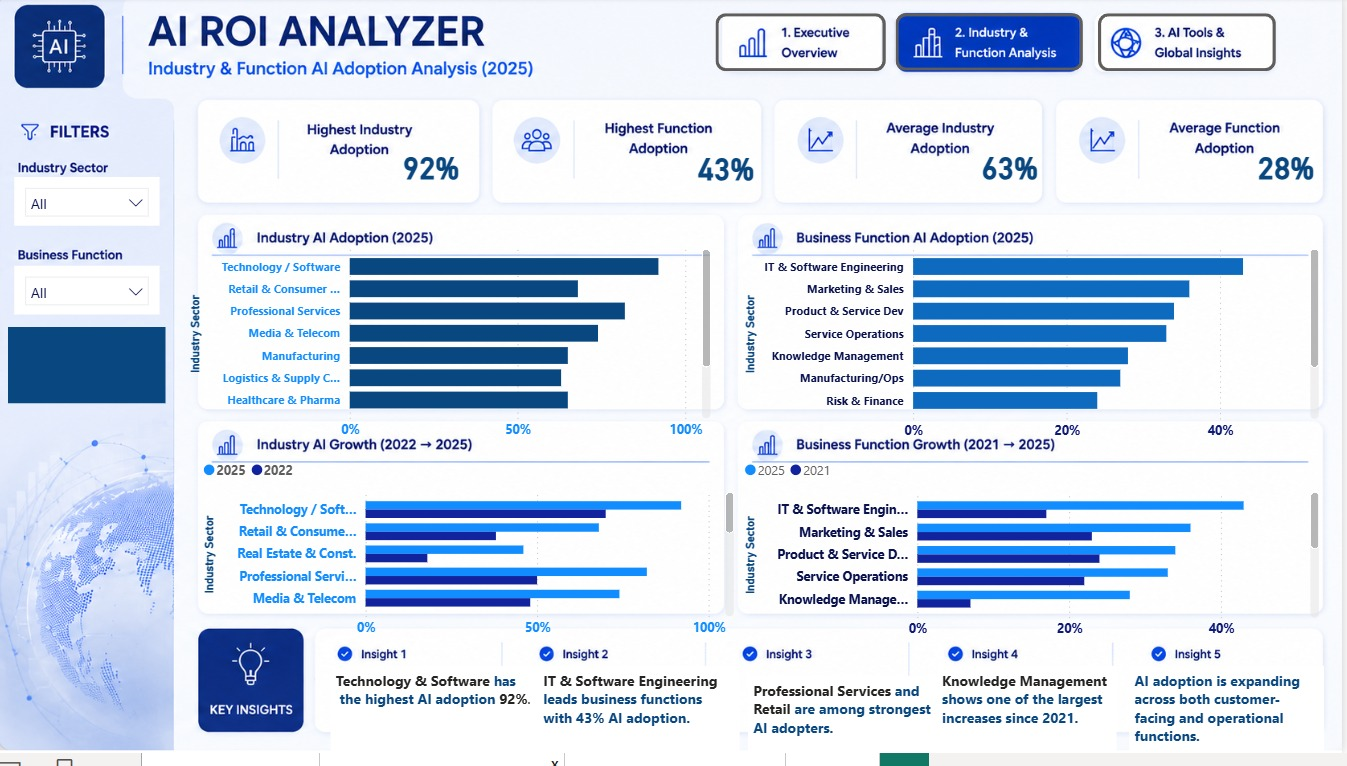

This screenshot's page, from the dashboard's own definition file:
{"tool":"powerbi","page":{"name":"Industry & Function Analysis","canvas":[1280,720],"ordinal":1},"visuals":[{"type":"card","fields":{"Values":["Measures (2).Highest Industry Adoption"]},"box":[376.2,133.3,72.6,56],"z":0},{"type":"card","fields":{"Values":["Measures (2).Highest Function Adoption"]},"box":[657.1,134.5,72.6,56],"z":1000},{"type":"card","fields":{"Values":["Measures (2).Average Industry Adoption"]},"box":[927.4,133.3,72.6,56],"z":2000},{"type":"card","fields":{"Values":["Measures (2).Average Function Adoption"]},"box":[1190.5,133.3,72.6,56],"z":3000},{"type":"clusteredBarChart","fields":{"Y":["Sum(industry_adoption.y2025)"],"Category":["industry_adoption.industry_sector"]},"box":[177,227.8,506.3,203.1],"z":4000},{"type":"clusteredBarChart","fields":{"Y":["Sum(business_function.y2025)"],"Category":["business_function.business_function"]},"box":[706,227.4,557.1,203.6],"z":5000},{"type":"clusteredBarChart","fields":{"Y":["Sum(business_function.y2025)","Sum(business_function.y2021)"],"Category":["business_function.business_function"]},"box":[706,431,557.1,189.3],"z":6000},{"type":"clusteredBarChart","fields":{"Y":["Sum(industry_adoption.y2025)","Sum(industry_adoption.y2022)"],"Category":["industry_adoption.industry_sector"]},"box":[190.5,431,515.5,188.1],"z":7000},{"type":"actionButton","box":[854.8,15.5,178.6,54.8],"z":8000},{"type":"slicer","fields":{"Values":["industry_adoption.industry_sector"]},"box":[15.5,171.4,138.1,46.4],"z":9000},{"type":"slicer","fields":{"Values":["business_function.business_function"]},"box":[15.5,256,138.1,46.4],"z":10000},{"type":"shape","box":[9.5,314.3,150,72.6],"z":11000},{"type":"textbox","box":[316.7,636.9,197.6,83.3],"z":12000},{"type":"textbox","box":[514.3,636.9,191.7,83.3],"z":13000},{"type":"textbox","box":[714.3,646.4,179.8,73.8],"z":14000},{"type":"textbox","box":[894.1,636.9,171.4,83.3],"z":15000},{"type":"textbox","box":[1077.4,636.9,185.7,83.3],"z":16000},{"type":"actionButton","box":[683.2,15.6,162.1,55.2],"z":16001},{"type":"actionButton","box":[1047.1,15.6,169.3,55.2],"z":16002}]}

Visuals, with their boxes in screenshot pixels (x1, y1, x2, y2), scaled from the page's 1280x720 canvas onto the 1347x766 screenshot:
card - Measures (2).Highest Industry Adoption: [x1=396, y1=142, x2=472, y2=201]
card - Measures (2).Highest Function Adoption: [x1=691, y1=143, x2=768, y2=203]
card - Measures (2).Average Industry Adoption: [x1=976, y1=142, x2=1052, y2=201]
card - Measures (2).Average Function Adoption: [x1=1253, y1=142, x2=1329, y2=201]
clusteredBarChart - Sum(industry_adoption.y2025) x industry_adoption.industry_sector: [x1=186, y1=242, x2=719, y2=458]
clusteredBarChart - Sum(business_function.y2025) x business_function.business_function: [x1=743, y1=242, x2=1329, y2=459]
clusteredBarChart - Sum(business_function.y2025) x Sum(business_function.y2021): [x1=743, y1=459, x2=1329, y2=660]
clusteredBarChart - Sum(industry_adoption.y2025) x Sum(industry_adoption.y2022): [x1=200, y1=459, x2=743, y2=659]
actionButton: [x1=900, y1=16, x2=1087, y2=75]
slicer - industry_adoption.industry_sector: [x1=16, y1=182, x2=162, y2=232]
slicer - business_function.business_function: [x1=16, y1=272, x2=162, y2=322]
shape: [x1=10, y1=334, x2=168, y2=412]
textbox: [x1=333, y1=678, x2=541, y2=765]
textbox: [x1=541, y1=678, x2=743, y2=765]
textbox: [x1=752, y1=688, x2=941, y2=765]
textbox: [x1=941, y1=678, x2=1121, y2=765]
textbox: [x1=1134, y1=678, x2=1329, y2=765]
actionButton: [x1=719, y1=17, x2=890, y2=75]
actionButton: [x1=1102, y1=17, x2=1280, y2=75]
